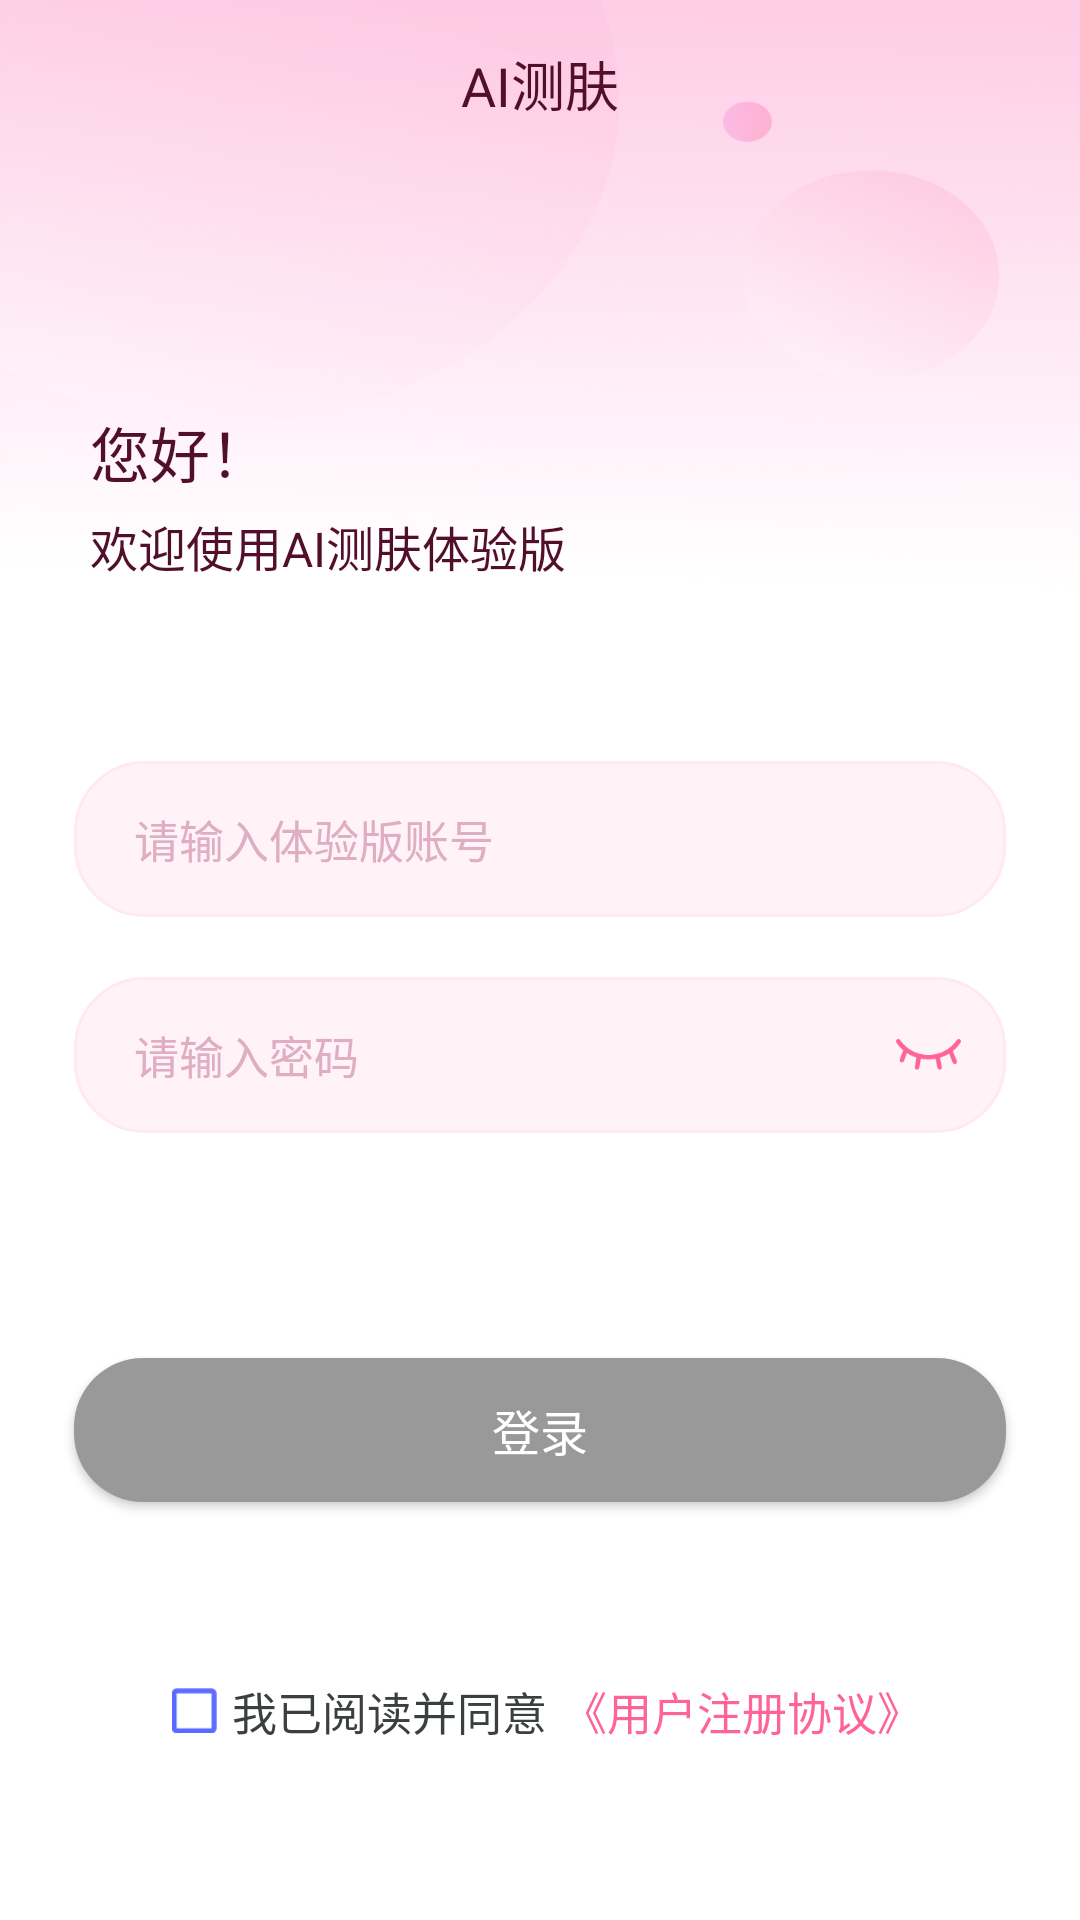

Where to tap for icons on this 1080px×1920px app screen, as [x,y]:
password close: [928,1054]
